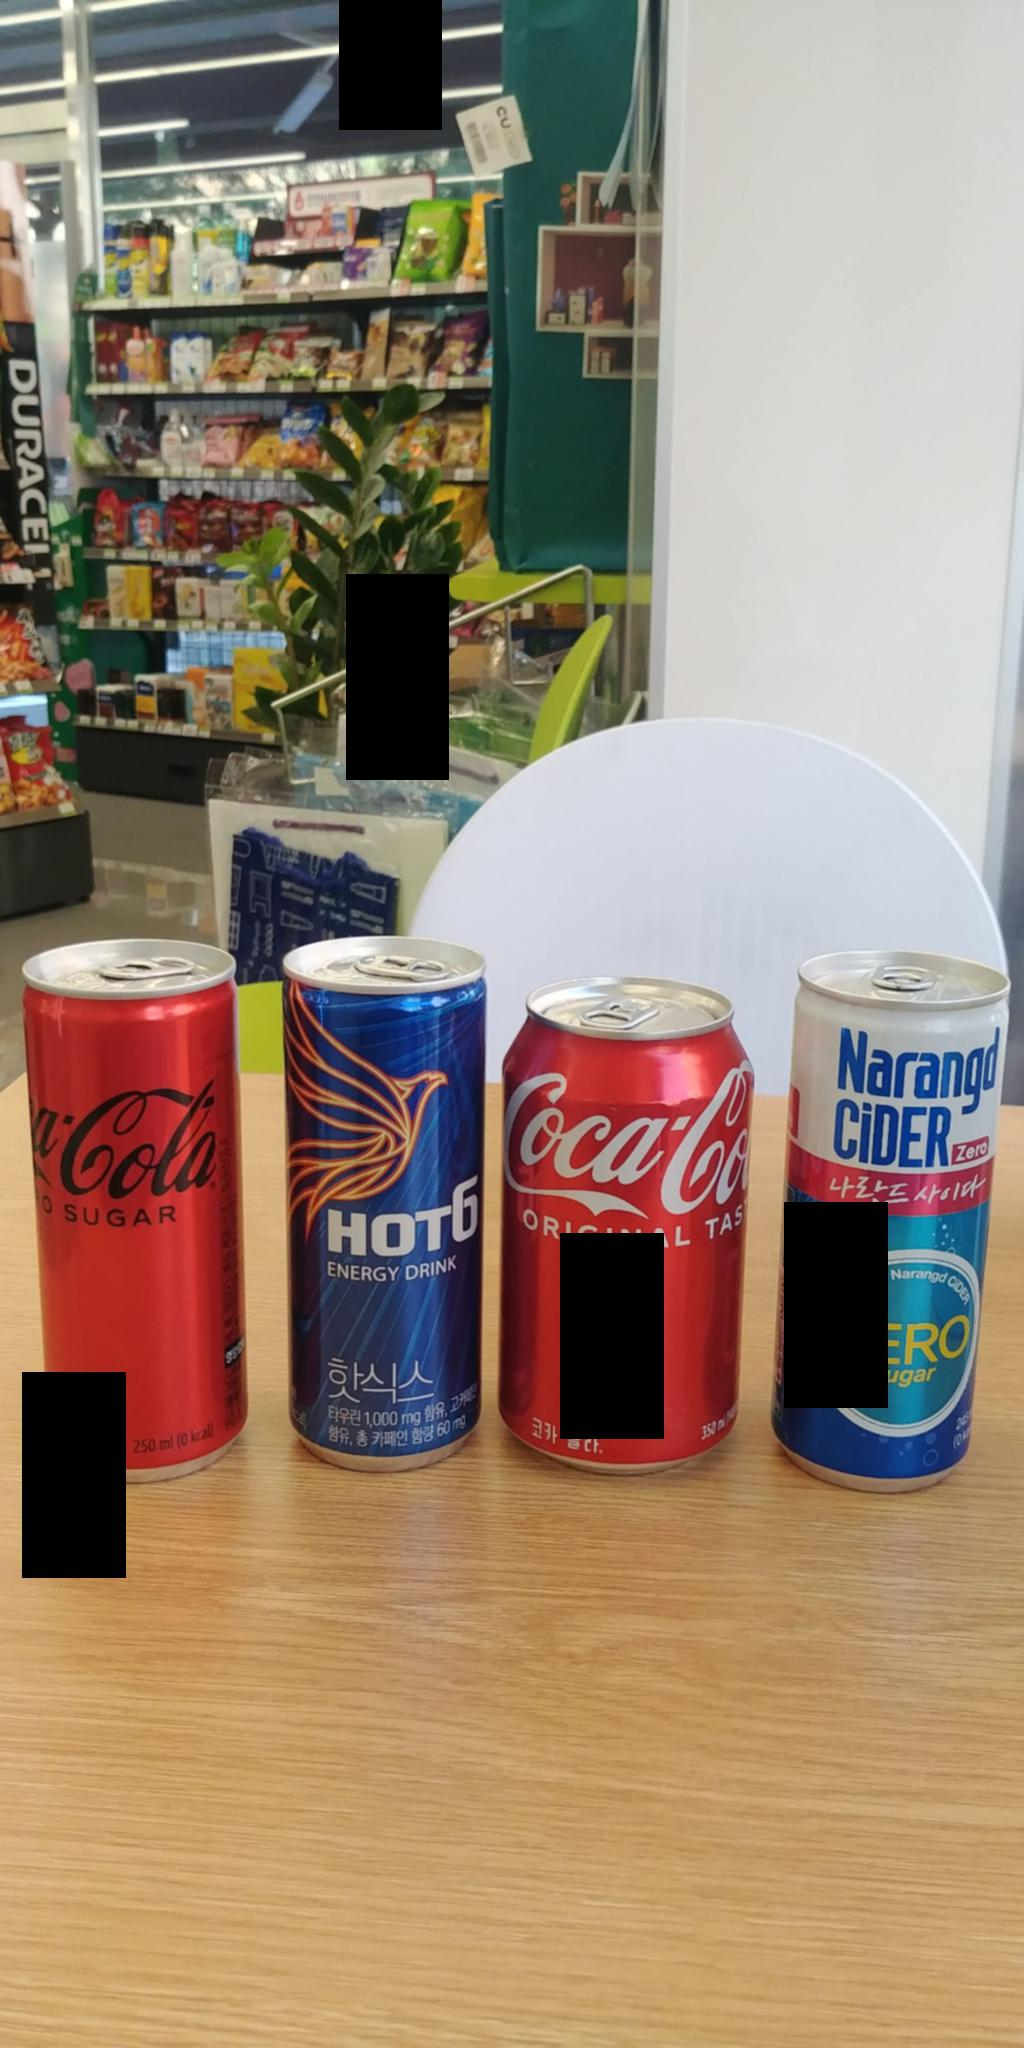cocacola: (508, 980, 750, 1475)
hotsix_org: (273, 926, 498, 1481)
narangdcider: (765, 935, 1017, 1486)
